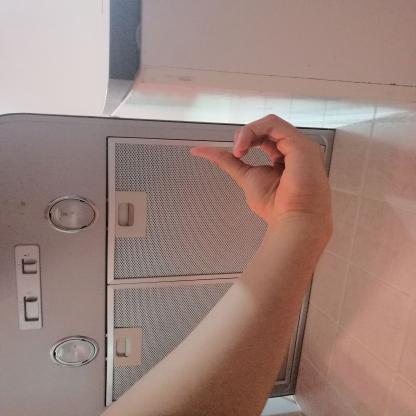WAW: (178, 106, 340, 243)
